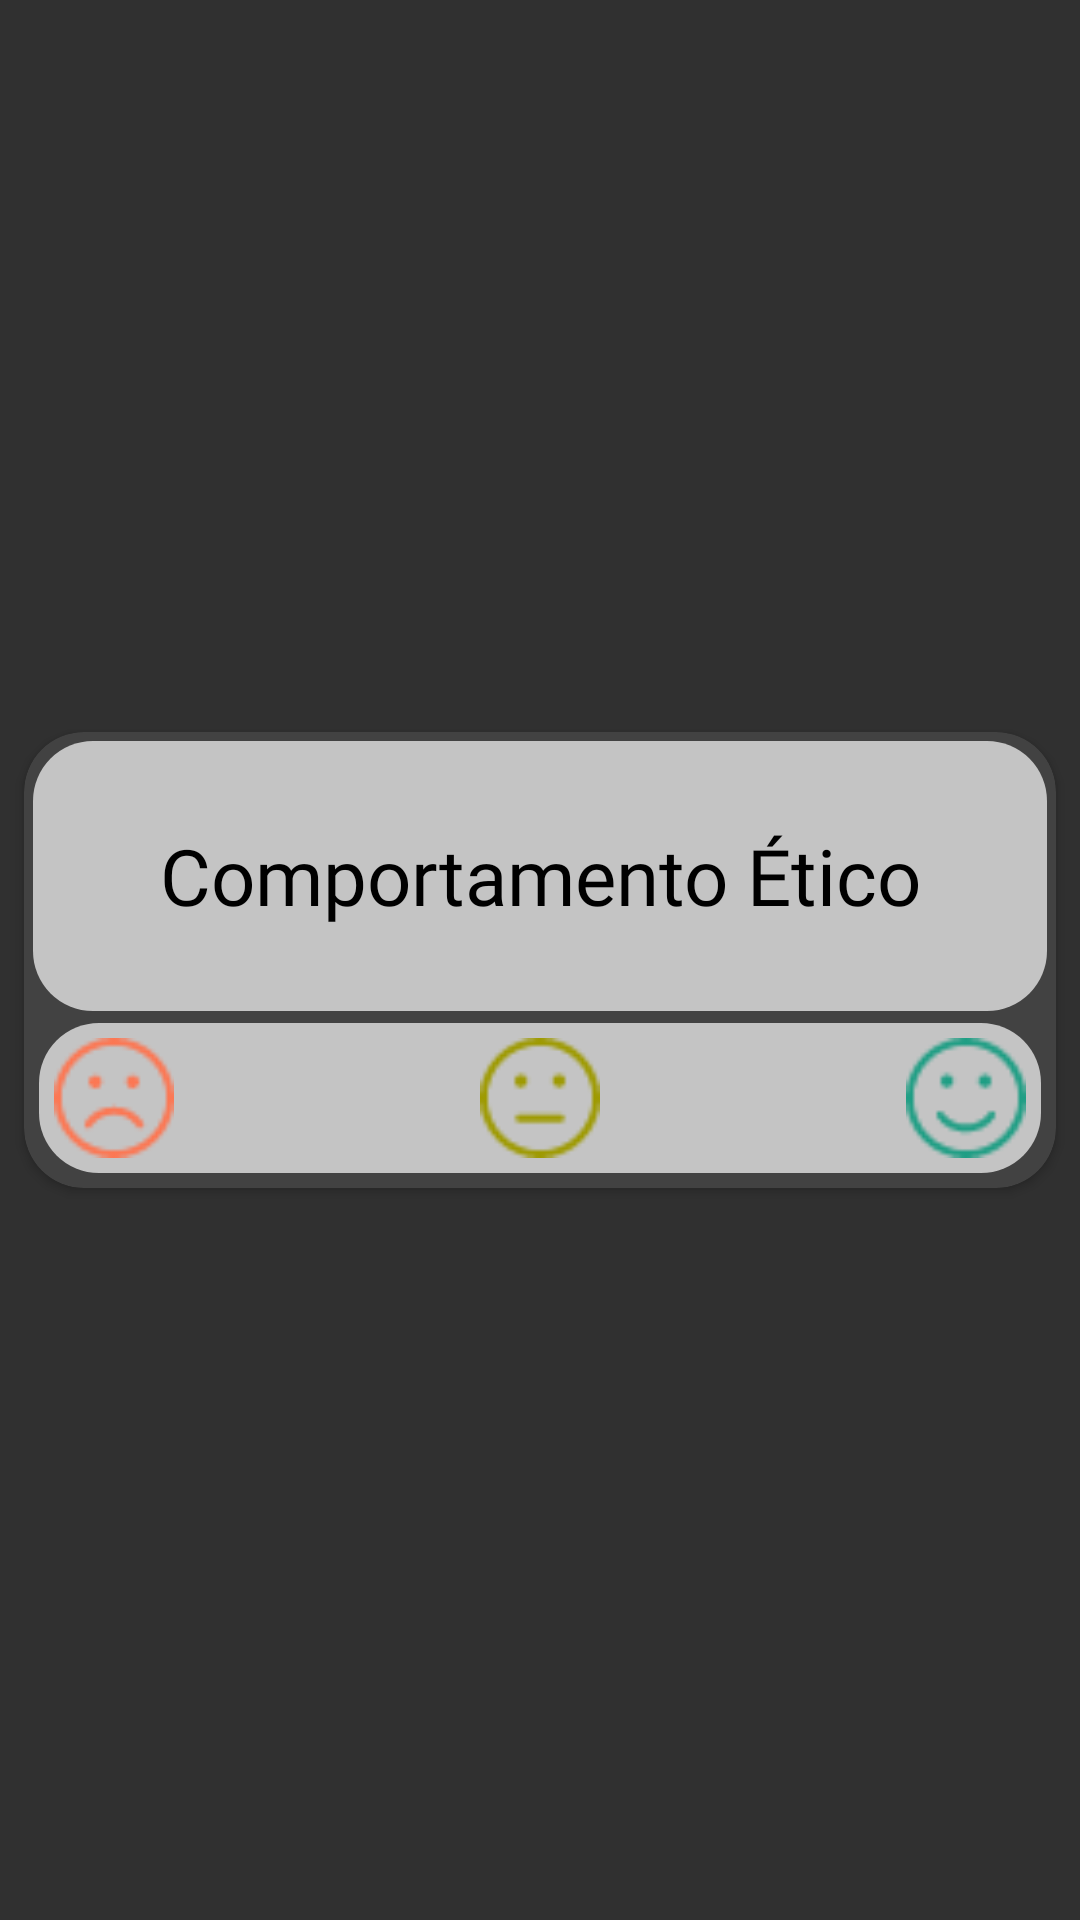

Icon bounding boxes for this 1080 x 1920 phone screenshot, format (x1, y1, x2, y2):
bad emoji: (54, 1038, 174, 1158)
good emoji: (906, 1038, 1026, 1158)
medium emoji: (480, 1038, 600, 1158)
